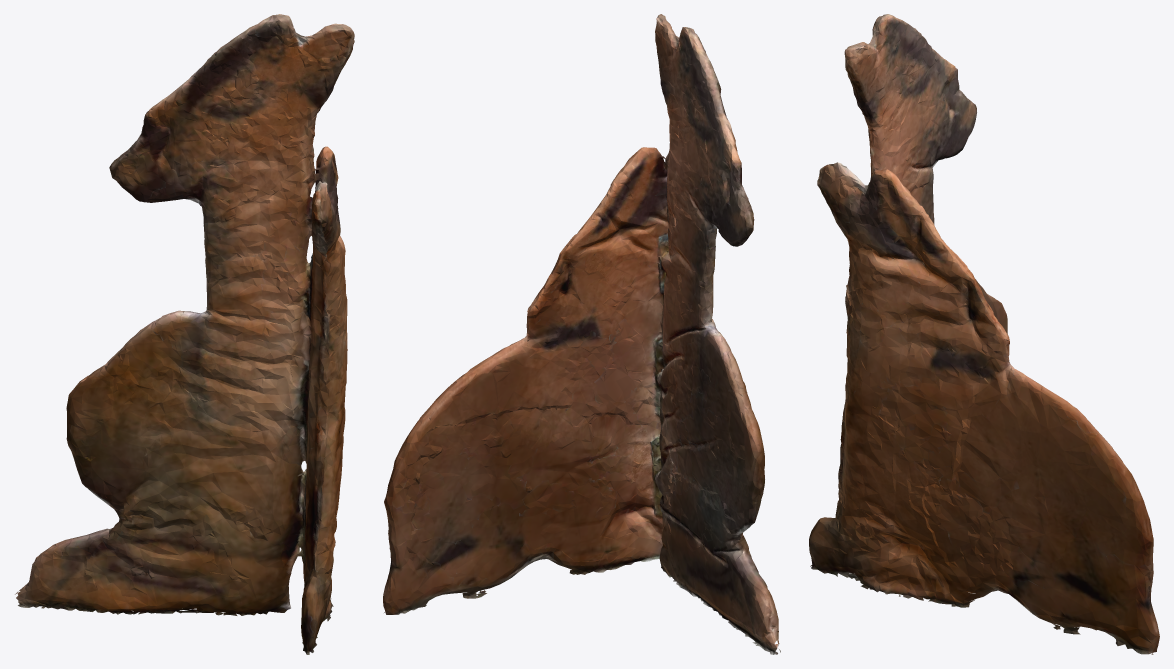
The model's file is escultura-mobile.glb.
The picture shows the model from 3 angles, left to right: view 1: azimuth 30°, elevation 25°; view 2: azimuth 150°, elevation 25°; view 3: azimuth 270°, elevation 25°; orthographic projection. The views are drawn at different scales.
Size of the model in its own units: 0.5314 by 0.805 by 0.46.
Materials: 1 (1 with a texture image).
